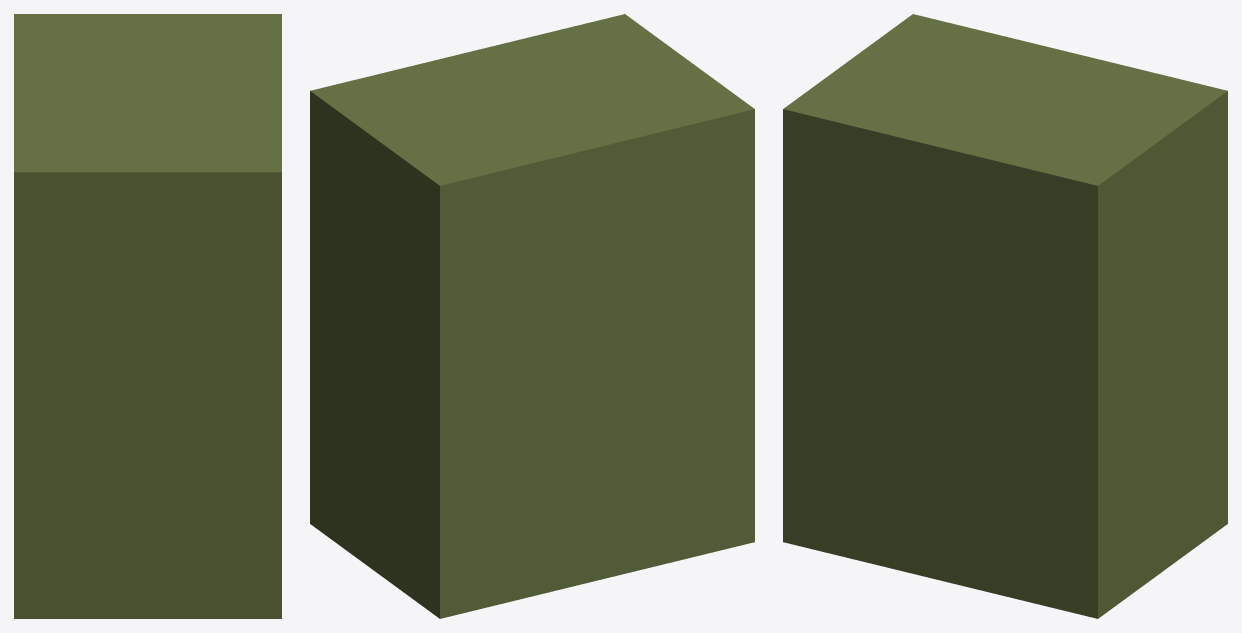
Rendered from ground_30.fbx.
3 views of the same model, side by side, from view 1: azimuth 30°, elevation 25°; view 2: azimuth 150°, elevation 25°; view 3: azimuth 270°, elevation 25° (orthographic). The views are drawn at different scales.
Parts seen in each view (by area): view 1: ground_30; view 2: ground_30; view 3: ground_30.
Boxes of the visible parts, bbox=[...] form: ground_30: bbox=[14, 14, 281, 618]; ground_30: bbox=[310, 14, 754, 618]; ground_30: bbox=[783, 14, 1227, 618].
Bounding box in the file's own units: 7.88 × 9.26 × 8.62.
